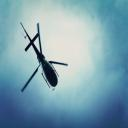helicopter: (20, 23, 69, 94)
